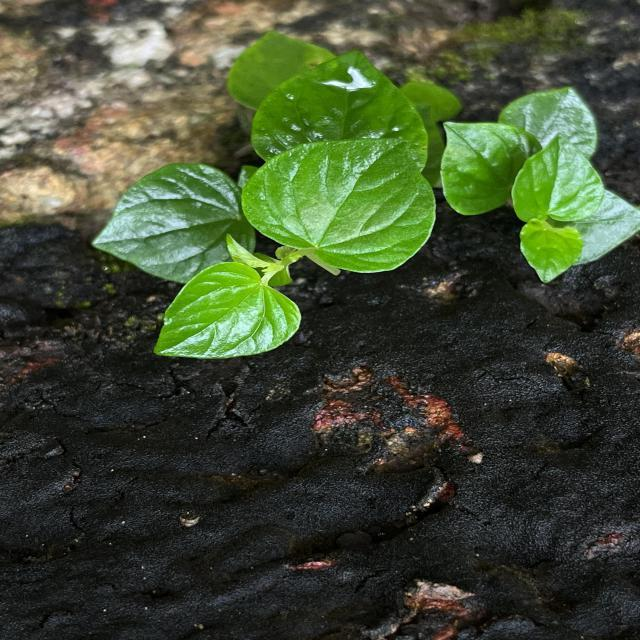Peperomia pellucida: (239, 137, 438, 275), (150, 261, 306, 361)
